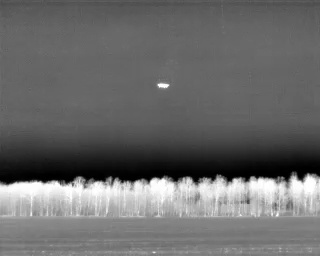DRONE: (154, 78, 173, 93)
